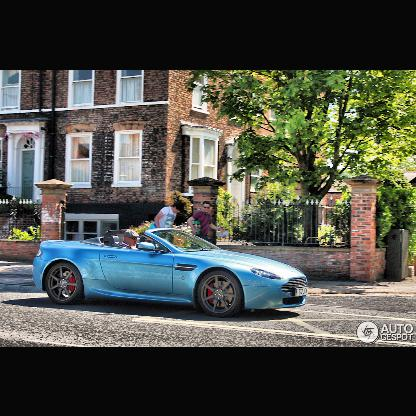Aston Martin V8 Vantage Convertible 2012: (33, 227, 311, 320)
